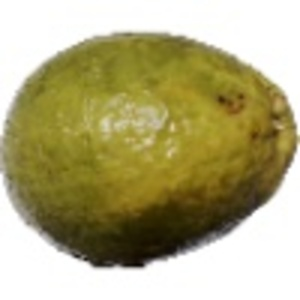goiaba: (1, 24, 294, 269)
